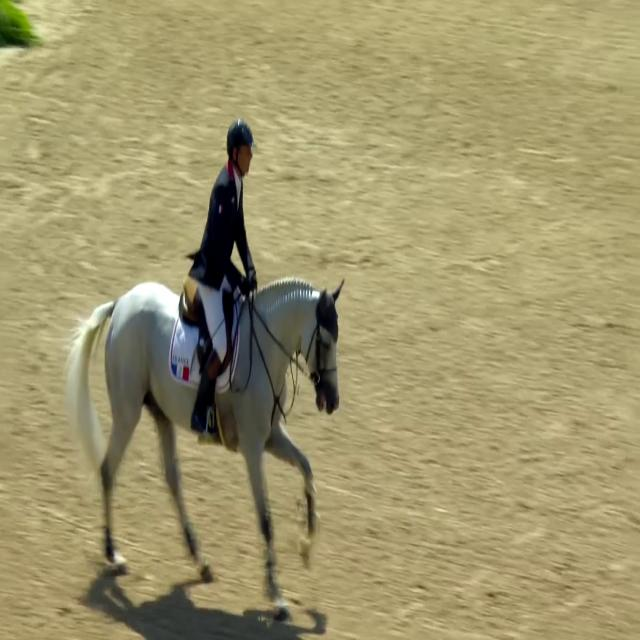Horse Rider: (190, 66, 268, 433)
Horse Running: (52, 230, 352, 603)
